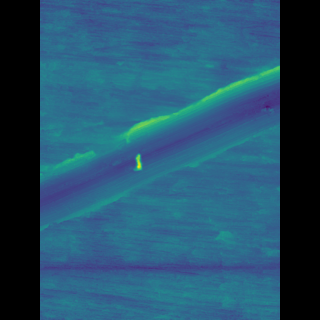Loch: (70, 63, 250, 231)
